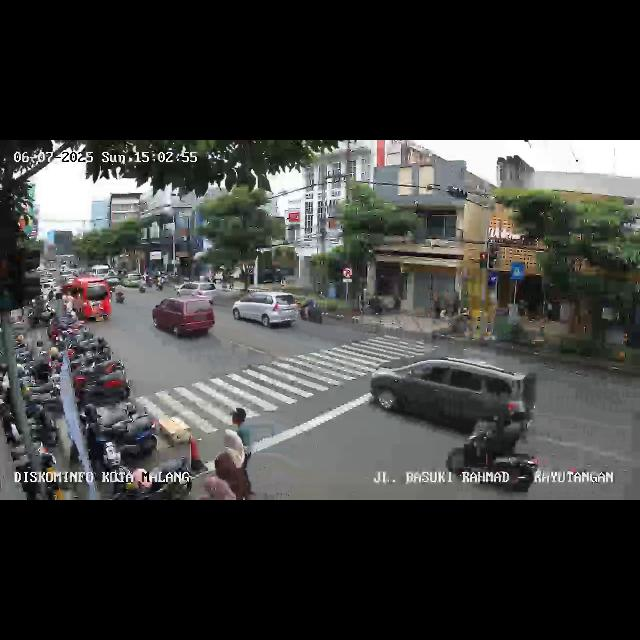car: (371, 358, 534, 437), (152, 296, 216, 342), (233, 291, 301, 331), (64, 278, 112, 322), (176, 280, 218, 306), (124, 273, 148, 291)
motorcycle: (457, 410, 539, 496), (300, 297, 324, 327), (114, 282, 126, 304), (154, 272, 166, 292), (138, 278, 146, 296)
person: (230, 408, 256, 498), (216, 428, 248, 500), (203, 474, 239, 500)
